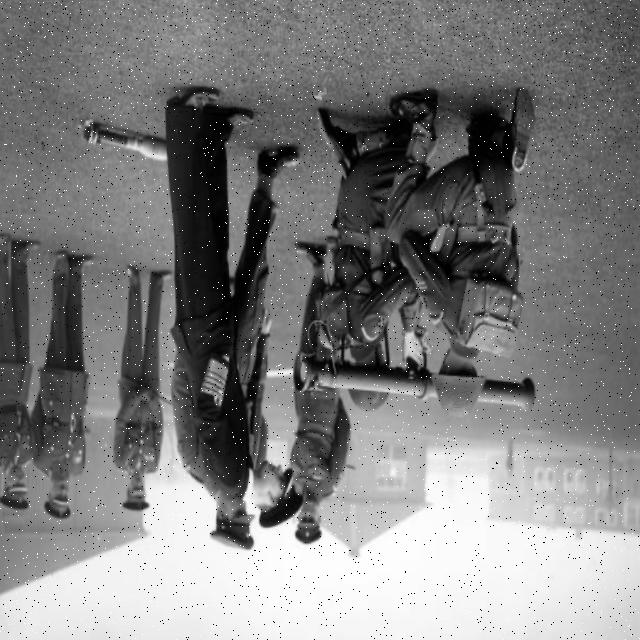bazooka: (292, 343, 549, 420)
